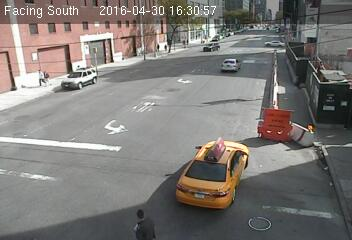neg: (194, 141, 227, 185), (80, 23, 108, 61), (120, 130, 143, 162), (179, 58, 202, 89), (52, 172, 75, 203), (263, 106, 282, 132), (71, 126, 90, 151), (104, 92, 122, 116), (319, 80, 335, 101), (269, 43, 283, 62), (229, 62, 242, 79), (312, 32, 325, 49), (225, 24, 238, 41)
pos: (128, 204, 154, 239), (30, 66, 46, 87), (153, 39, 164, 54)
